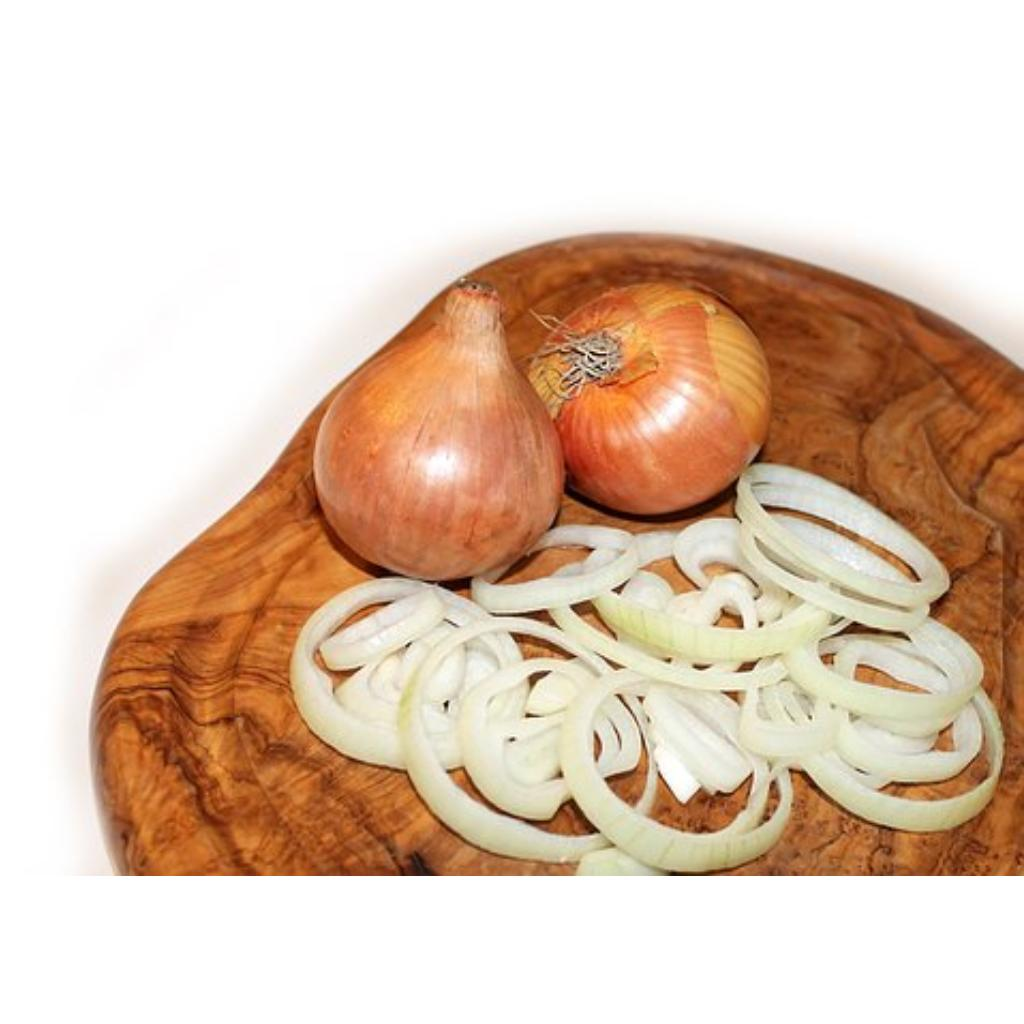Onion: (313, 281, 566, 580), (529, 283, 771, 513)
